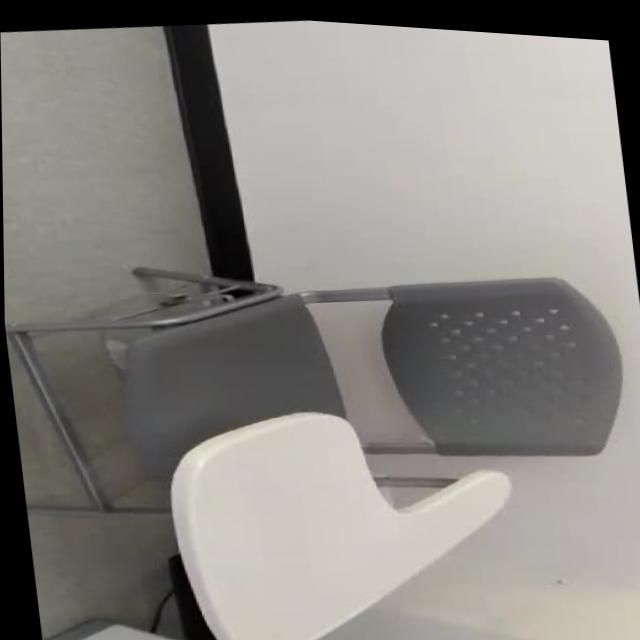chair: (2, 174, 640, 640)
